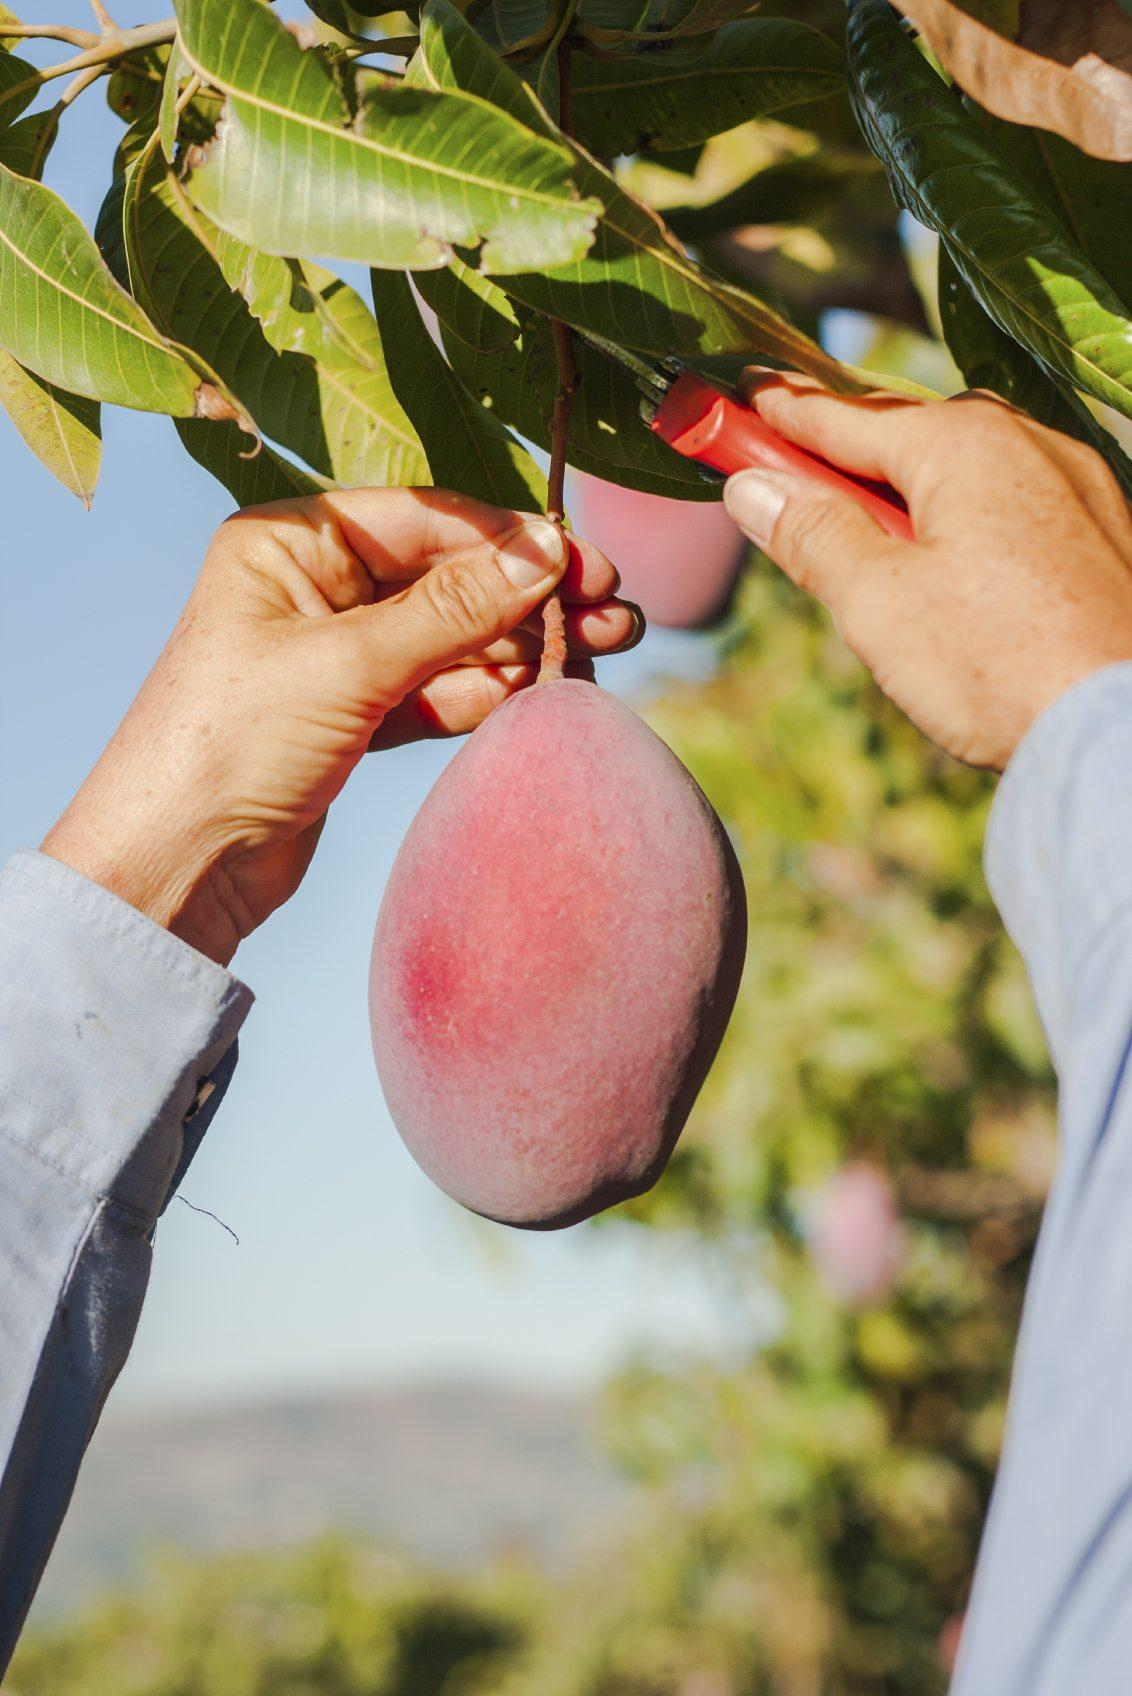Mango Semifresh: (315, 564, 800, 1235)
